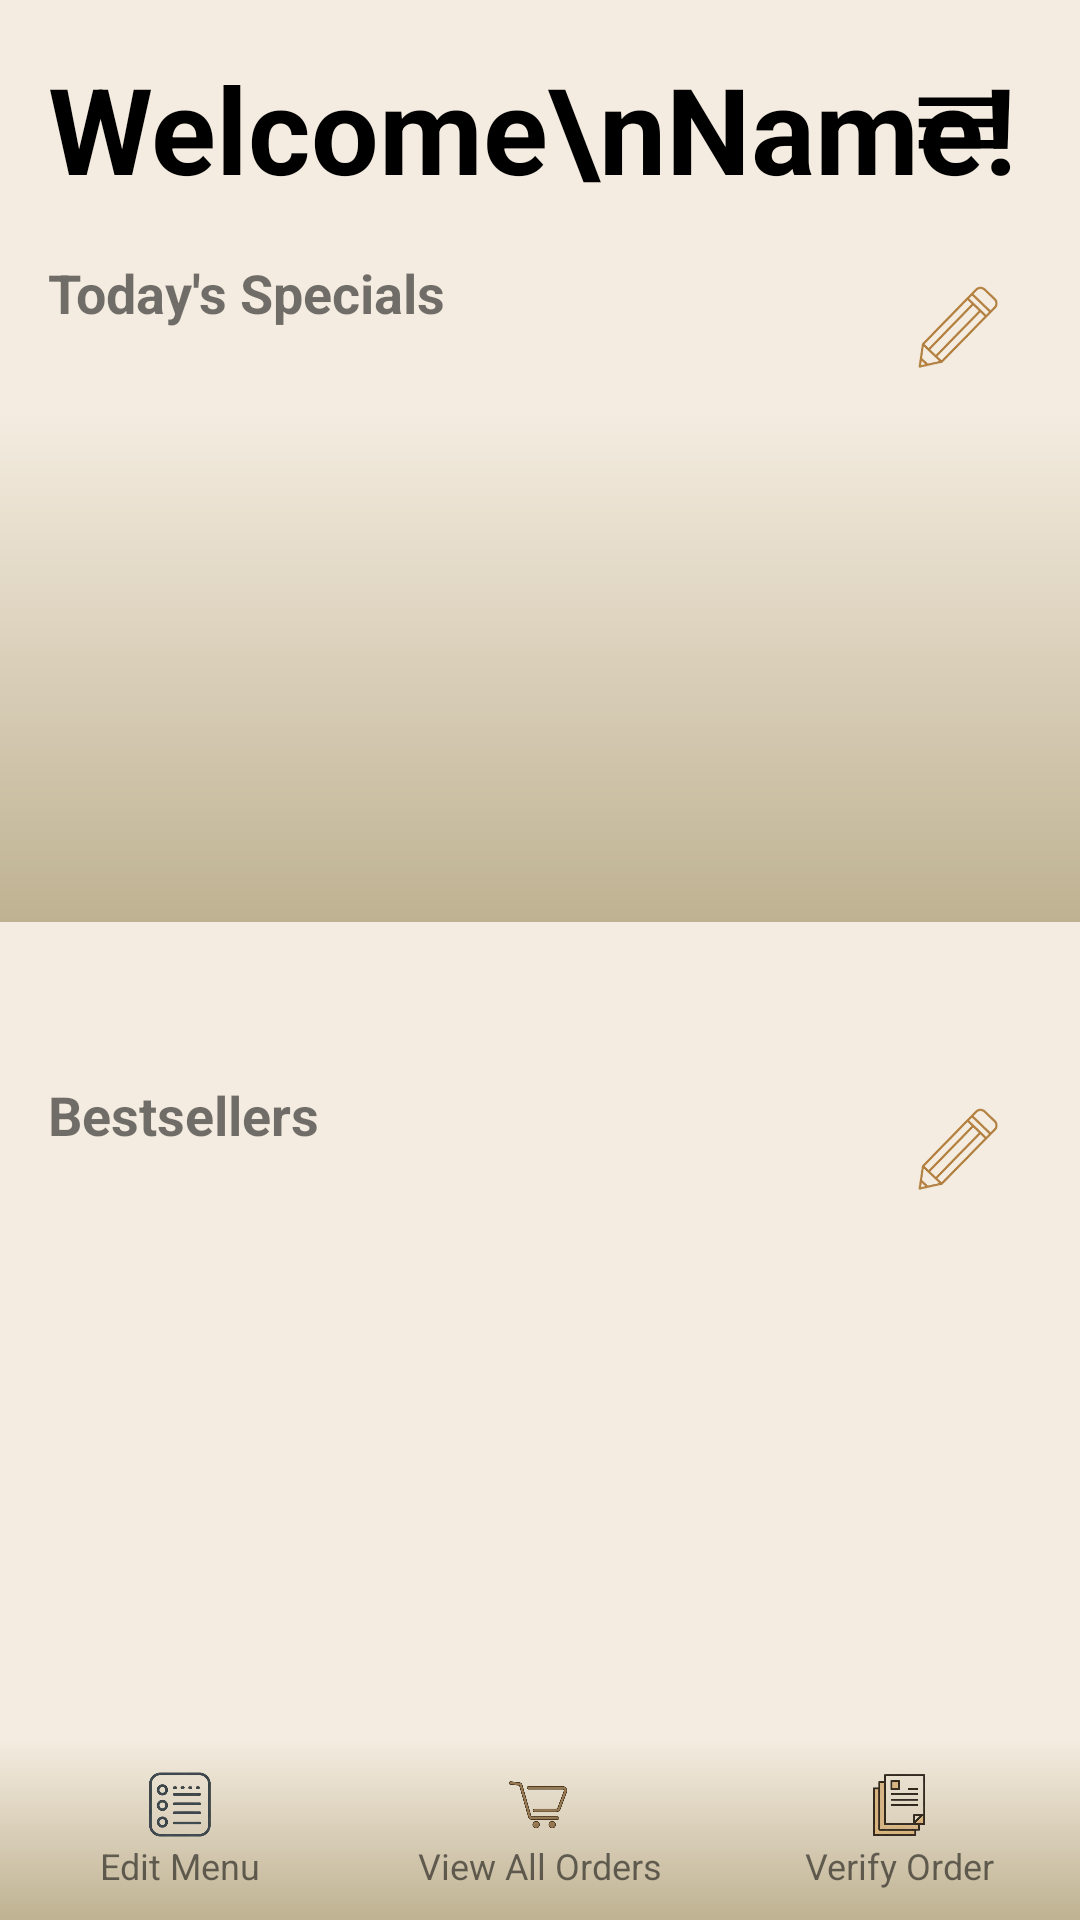

Named icons in this screenshot (1080×1920) and their centers, point (x, y):
cart: point (540, 1811)
Edit Bestsellers: point (958, 1149)
Edit Specials: point (958, 327)
